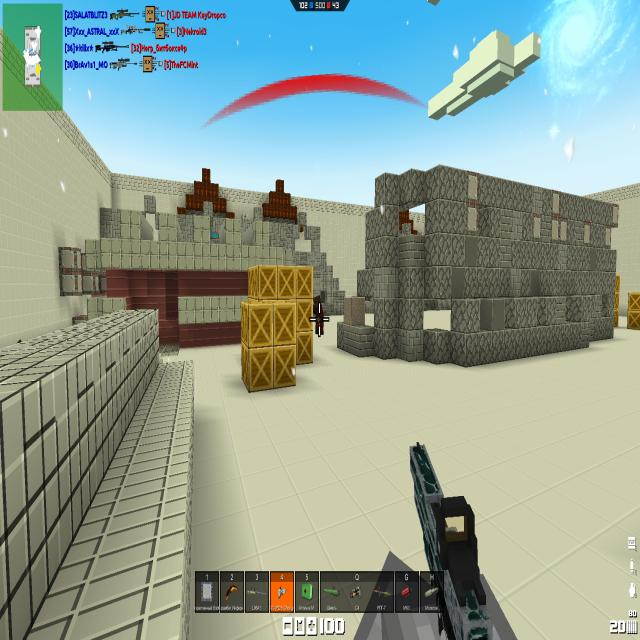player: (314, 295, 324, 335)
